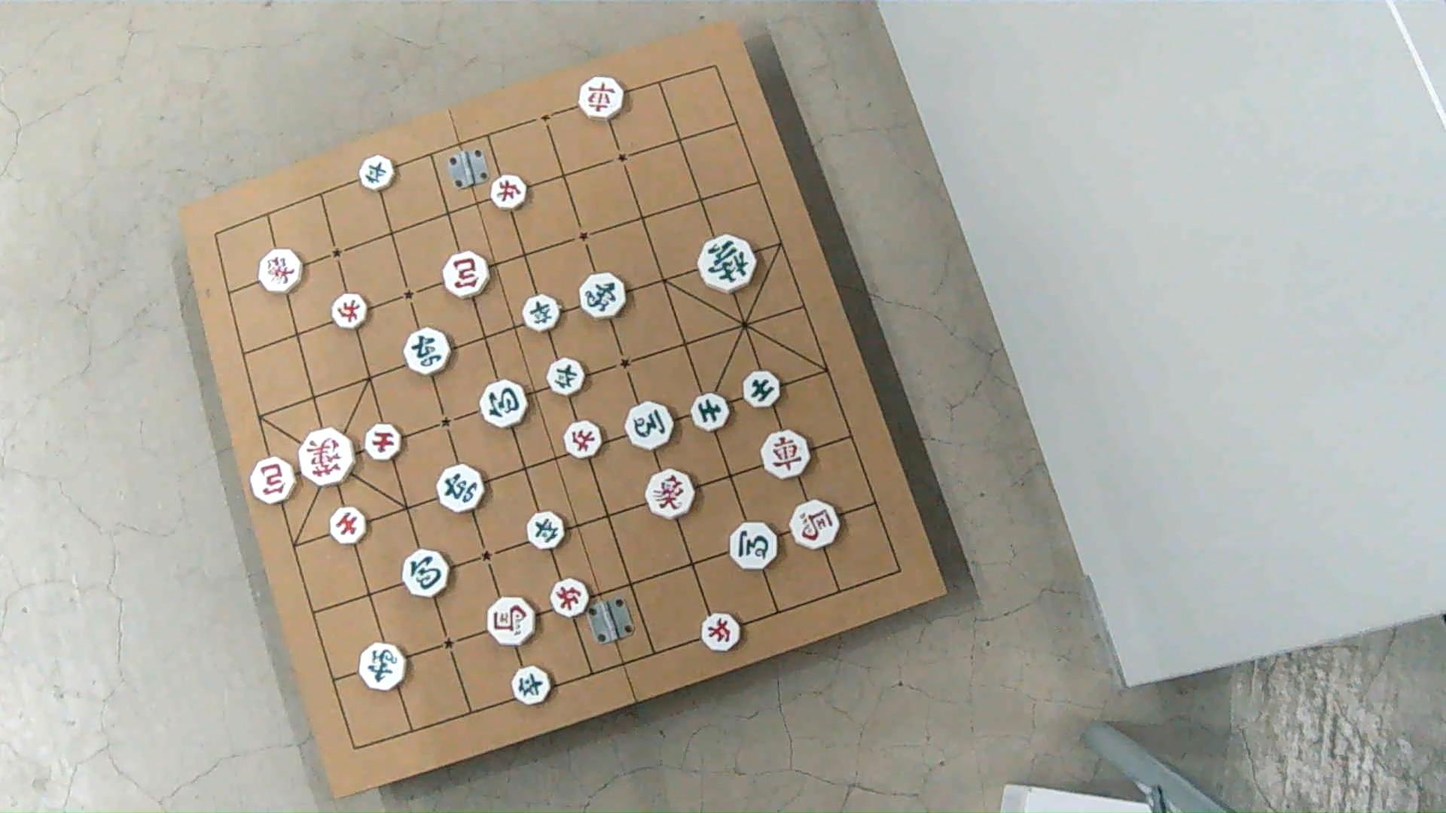cha_green: (440, 466, 487, 513), (404, 326, 450, 374)
cha_red: (763, 430, 811, 478), (578, 78, 624, 121)
jol_green: (512, 665, 551, 704), (526, 511, 564, 549), (546, 358, 584, 396), (524, 296, 561, 333), (361, 156, 396, 191)
jol_red: (699, 614, 737, 653), (551, 580, 589, 618), (564, 422, 601, 458), (331, 291, 368, 327), (491, 174, 527, 209)
ma_green: (728, 522, 776, 570), (626, 403, 673, 451)
ma_red: (790, 502, 839, 550), (490, 598, 538, 647)
po_green: (402, 549, 449, 597), (479, 382, 526, 429)
po_red: (248, 456, 294, 502), (444, 251, 490, 297)
sa_green: (691, 392, 730, 431), (745, 371, 782, 408)
sa_red: (364, 425, 401, 462), (330, 506, 366, 544)
sang_green: (358, 643, 405, 690), (582, 275, 629, 320)
sang_red: (645, 469, 693, 519), (257, 250, 300, 294)
wang_green: (697, 235, 755, 293)
wang_red: (300, 429, 356, 486)
